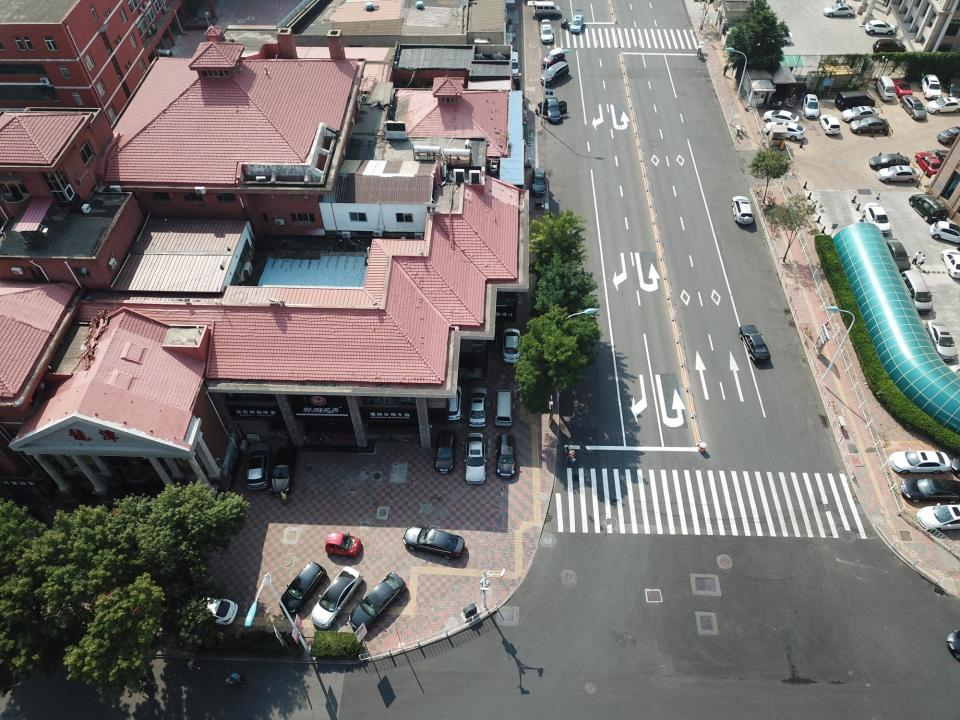car: (348, 572, 408, 634), (309, 566, 363, 630), (166, 591, 238, 627), (278, 561, 326, 615), (402, 523, 464, 560), (87, 590, 150, 620), (266, 445, 300, 498), (886, 448, 952, 475), (920, 318, 960, 362), (898, 476, 960, 503), (737, 323, 773, 363), (916, 503, 960, 533), (908, 192, 950, 223), (463, 430, 487, 484), (464, 431, 487, 485), (242, 442, 266, 493), (881, 236, 913, 272), (494, 433, 518, 479), (434, 428, 456, 475), (861, 202, 891, 236), (749, 23, 792, 46), (324, 532, 362, 558), (536, 95, 570, 123), (764, 121, 806, 143), (877, 164, 921, 185), (538, 61, 572, 87), (468, 385, 489, 427), (439, 383, 462, 421), (898, 94, 928, 122), (929, 217, 960, 244), (502, 328, 524, 365), (730, 194, 755, 226), (869, 153, 911, 172), (840, 106, 883, 124), (761, 110, 800, 129), (914, 151, 942, 177), (850, 118, 890, 135), (920, 72, 943, 101), (939, 247, 960, 278), (871, 38, 907, 56), (934, 150, 960, 174), (822, 3, 857, 20), (925, 98, 960, 115), (801, 92, 821, 120), (530, 167, 548, 198), (865, 18, 897, 35), (816, 113, 840, 135), (541, 47, 566, 68), (503, 50, 520, 78), (538, 19, 555, 45), (892, 78, 914, 98), (937, 126, 960, 144), (944, 75, 960, 99), (569, 14, 584, 34)
van: (899, 269, 936, 315), (834, 90, 877, 110), (495, 390, 513, 426), (533, 0, 563, 20), (875, 75, 895, 103)
